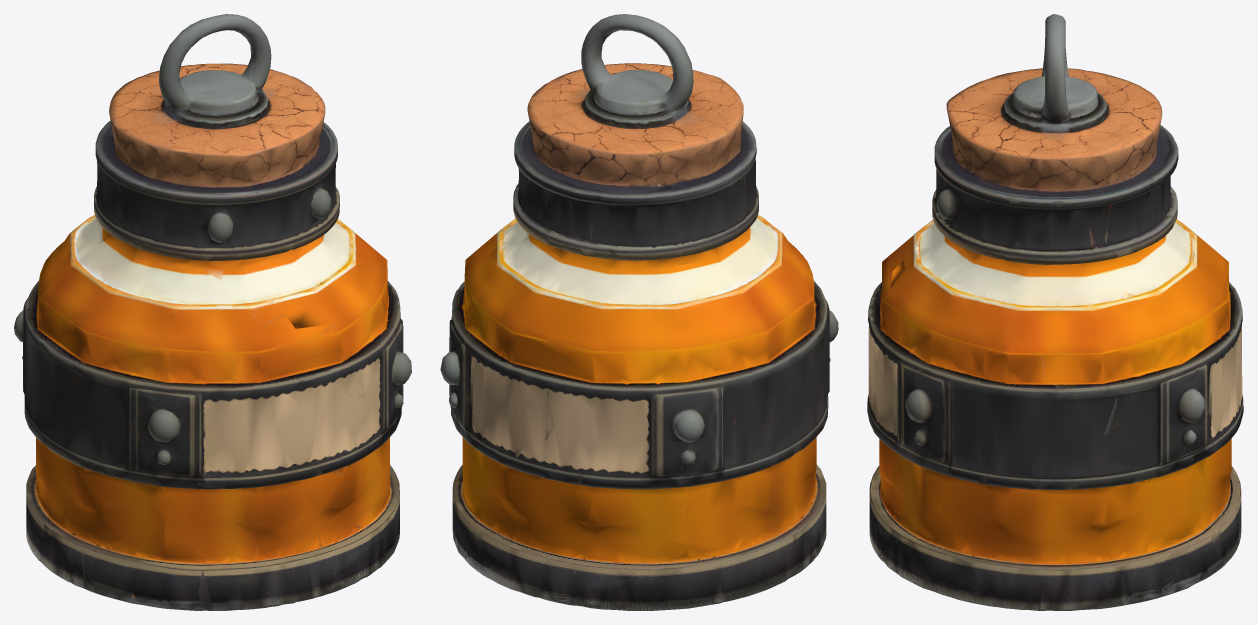
Rendered from cleaned-model.glb.
The picture shows the model from 3 angles, left to right: view 1: azimuth 30°, elevation 25°; view 2: azimuth 150°, elevation 25°; view 3: azimuth 270°, elevation 25°; orthographic projection.
Visible parts, largest first — view 1: Mesh_0; view 2: Mesh_0; view 3: Mesh_0.
Part boxes in pixels (box(x1,y1,x2,y2)): Mesh_0: box(14, 14, 411, 610); Mesh_0: box(440, 14, 838, 610); Mesh_0: box(867, 14, 1243, 610).
Bounding box in the file's own units: 0.1466 × 0.22 × 0.1466.
1 material, 1 textured.
